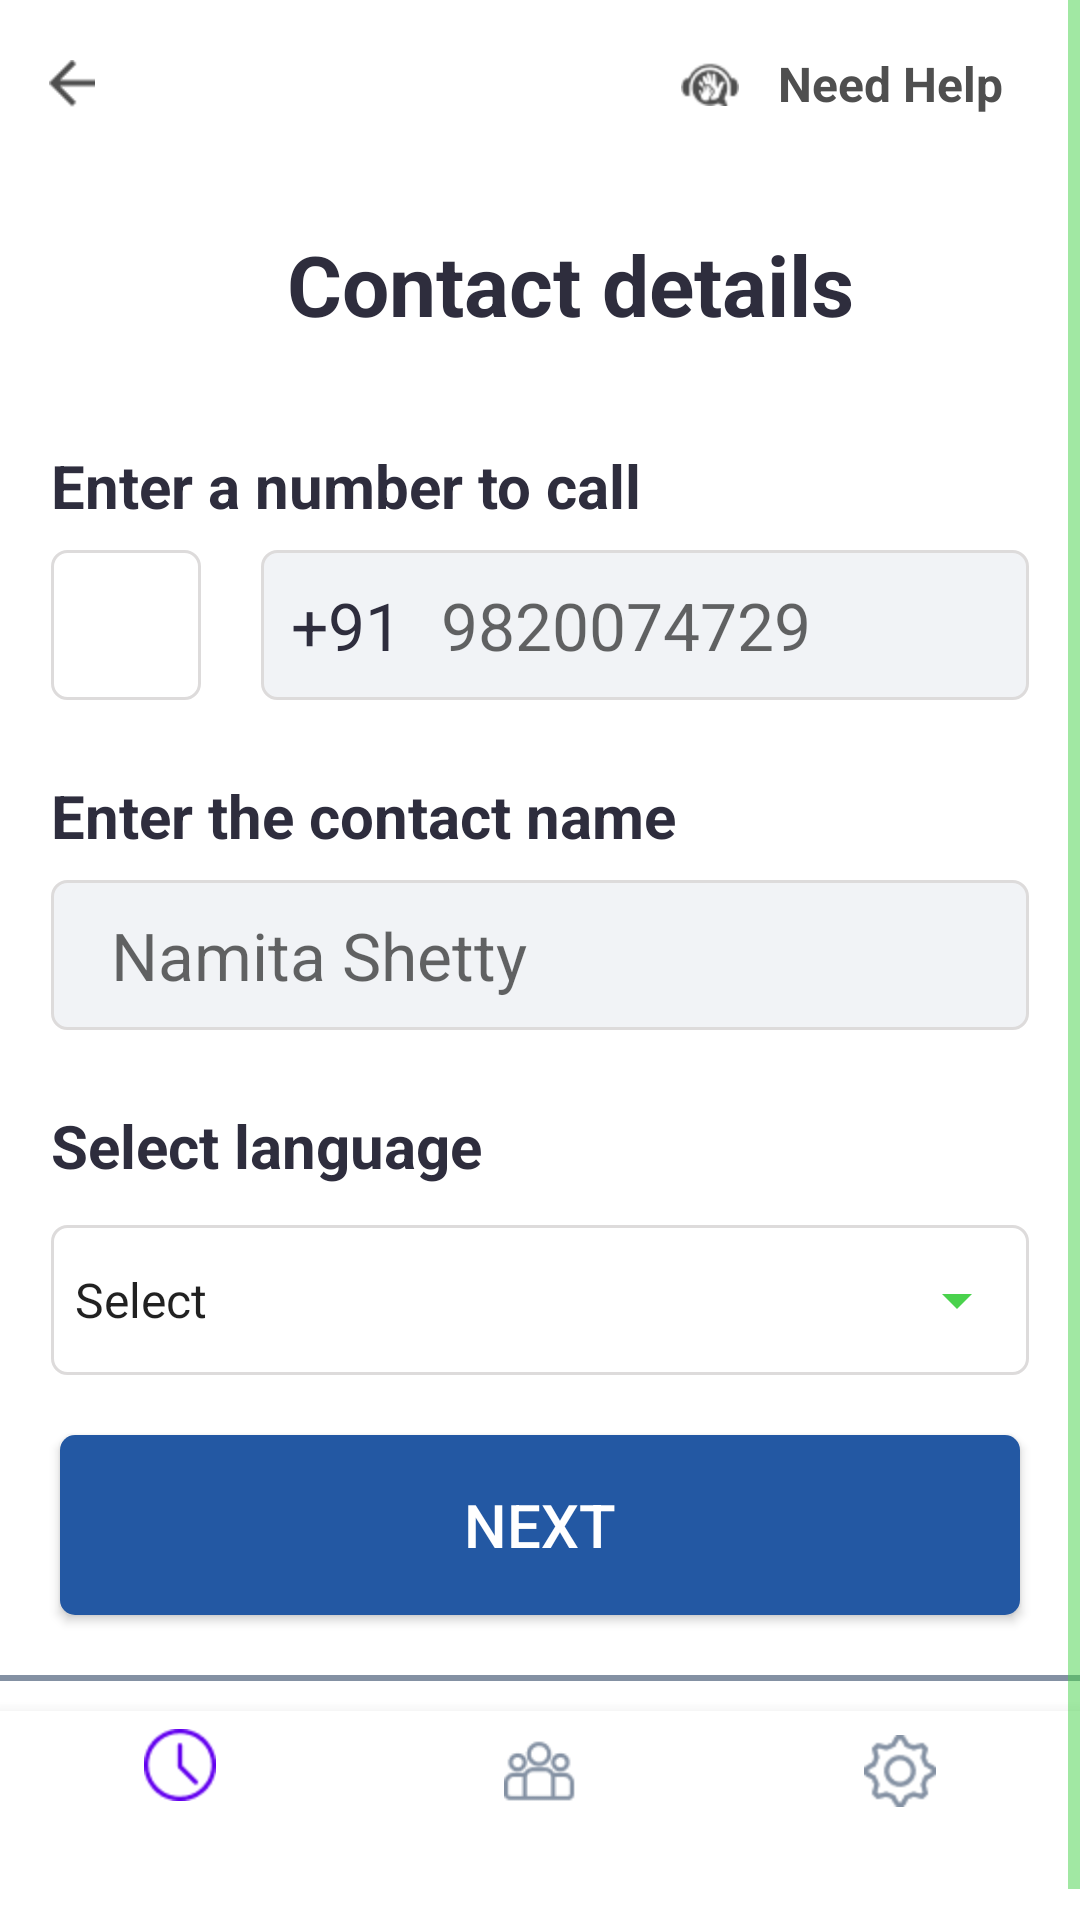

Named icons in this screenshot (1080w x 1920h) and their centers, (x,y):
back: (72,83)
